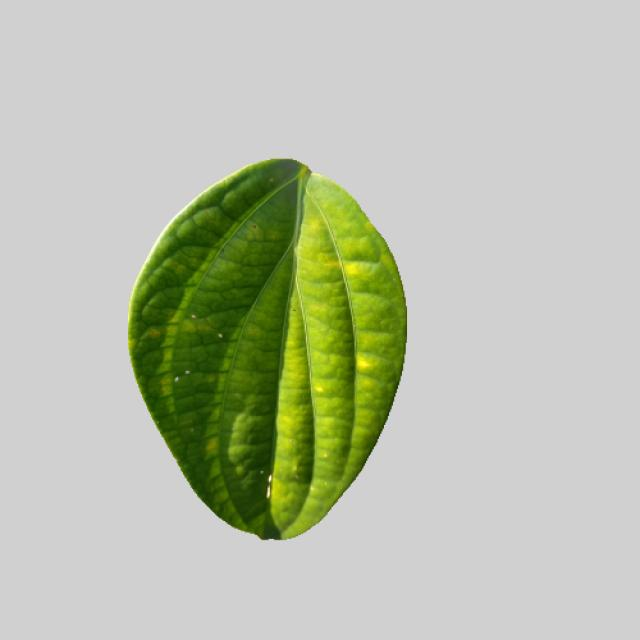healthy: (125, 155, 422, 548)
